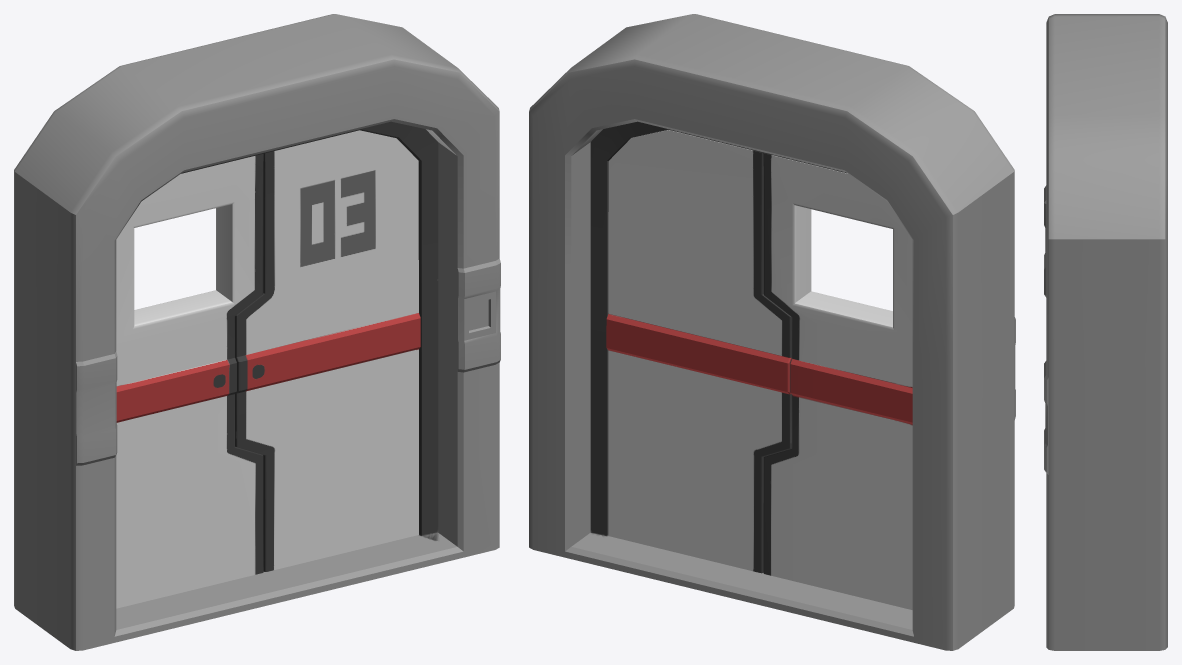
File: PuertaSalamedicaV4.fbx
The picture shows the model from 3 angles, left to right: view 1: azimuth 30°, elevation 25°; view 2: azimuth 150°, elevation 25°; view 3: azimuth 270°, elevation 25°; orthographic projection. The views are drawn at different scales.
Visible parts, largest first — view 1: Marco_puerta_SM, Puerta_SalaMedica_Dch, Puerta_SalaMedica_Izq; view 2: Marco_puerta_SM, Puerta_SalaMedica_Dch, Puerta_SalaMedica_Izq; view 3: Marco_puerta_SM.
Boxes of the visible parts, <box> form: Marco_puerta_SM: <box>14,14,500,650</box>; Puerta_SalaMedica_Dch: <box>235,130,420,571</box>; Puerta_SalaMedica_Izq: <box>116,154,263,608</box>; Marco_puerta_SM: <box>529,14,1015,650</box>; Puerta_SalaMedica_Dch: <box>606,130,792,573</box>; Puerta_SalaMedica_Izq: <box>763,153,912,609</box>; Marco_puerta_SM: <box>1044,14,1167,650</box>.
Size of the model in its own units: 201 by 232 by 53.5.
Materials: 2 (2 with a texture image).
